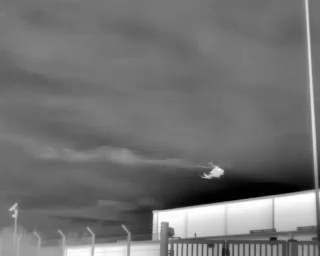HELICOPTER: (193, 157, 239, 186)
